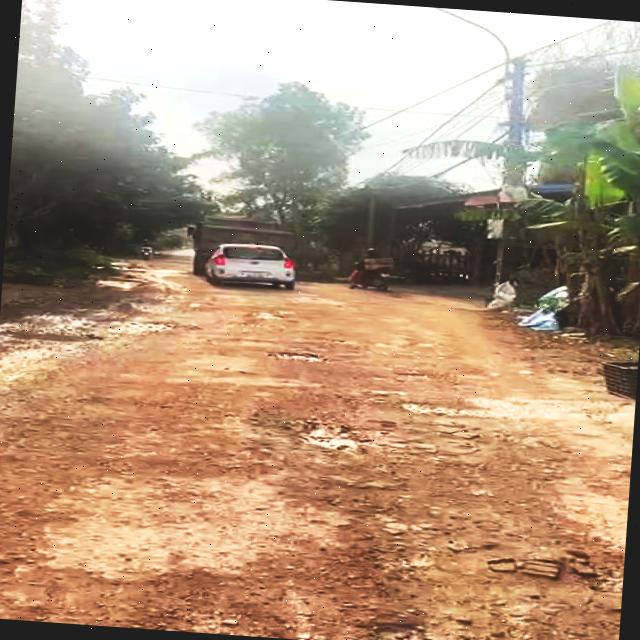pothole: (0, 537, 510, 640), (281, 407, 386, 459), (263, 348, 330, 366)
